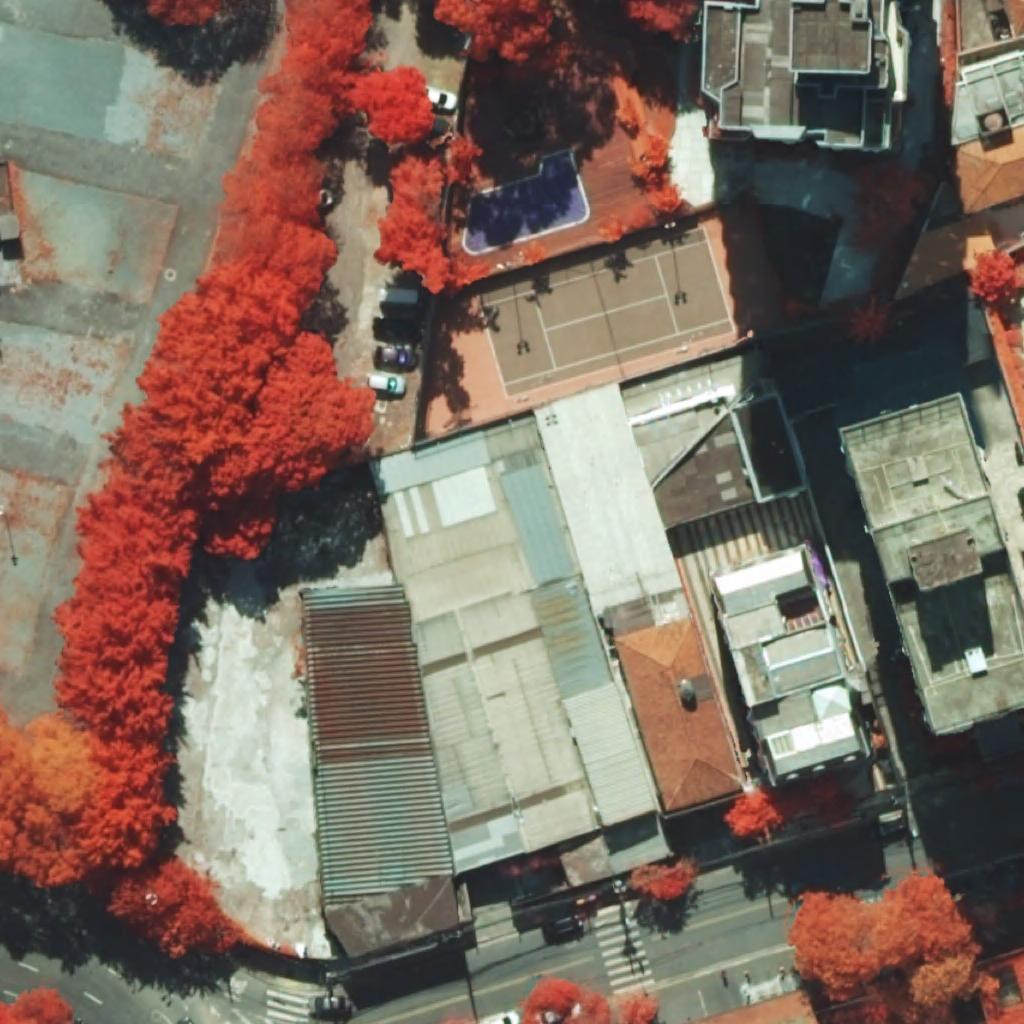pool: (466, 151, 586, 252)
